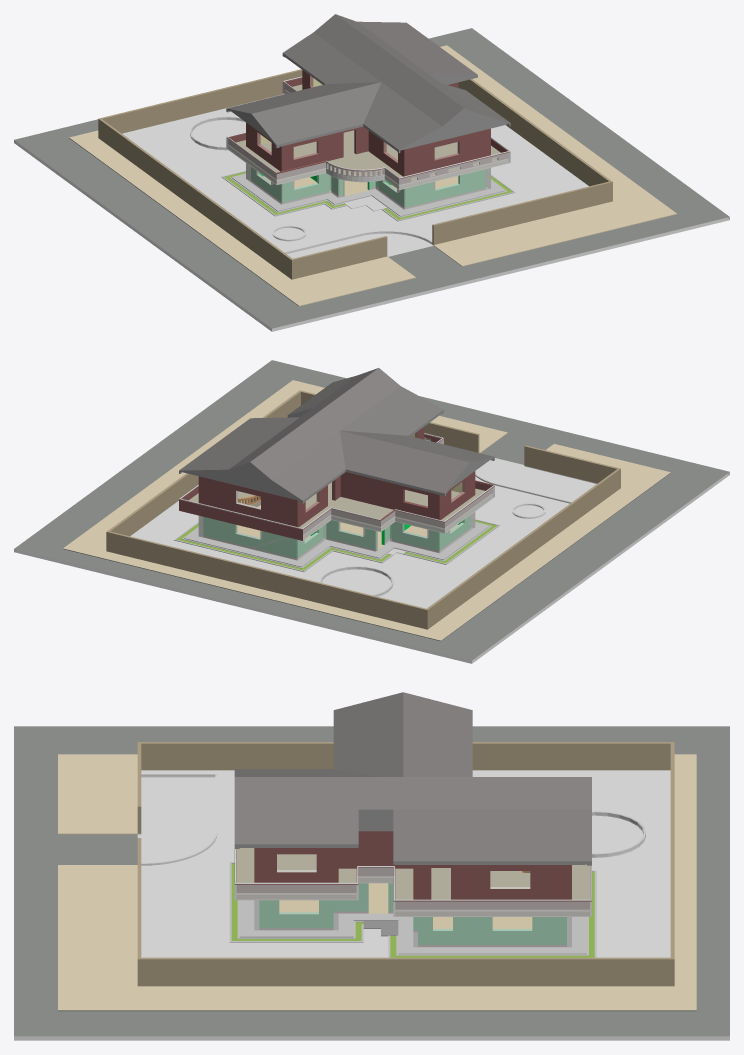
Rendered from house.glb.
3 renders of one model, top to bottom at view 1: azimuth 30°, elevation 25°; view 2: azimuth 150°, elevation 25°; view 3: azimuth 270°, elevation 25°, orthographic. The views are drawn at different scales.
Visible parts, largest first — view 1: Node315, Node313, Node314, Node1686, Node42, Node48, Node1607, Node1664, Node1611, Node44, Node40, Node1610 (+27 smaller); view 2: Node315, Node313, Node314, Node1686, Node1608, Node42, Node47, Node1607, Node44, Node40, Node1705, Node43 (+31 smaller); view 3: Node315, Node314, Node313, Node1686, Node1609, Node46, Node1612, Node40, Node1705, Node47, Node48, Node39 (+28 smaller).
Boxes of the visible parts, x1=… form: Node315: x1=14, y1=28, x2=729, y2=328; Node313: x1=15, y1=109, x2=727, y2=330; Node314: x1=69, y1=45, x2=676, y2=305; Node1686: x1=122, y1=94, x2=588, y2=252; Node42: x1=314, y1=14, x2=463, y2=126; Node48: x1=252, y1=82, x2=381, y2=144; Node1607: x1=98, y1=119, x2=291, y2=279; Node1664: x1=433, y1=182, x2=612, y2=244; Node1611: x1=102, y1=70, x2=302, y2=133; Node44: x1=363, y1=82, x2=441, y2=149; Node40: x1=357, y1=21, x2=477, y2=74; Node1610: x1=458, y1=79, x2=608, y2=186; Node315: x1=14, y1=360, x2=729, y2=660; Node313: x1=16, y1=458, x2=728, y2=662; Node314: x1=63, y1=380, x2=670, y2=640; Node1686: x1=130, y1=476, x2=569, y2=608; Node1608: x1=106, y1=532, x2=427, y2=629; Node42: x1=250, y1=368, x2=399, y2=479; Node47: x1=340, y1=430, x2=469, y2=493; Node1607: x1=427, y1=469, x2=620, y2=629; Node44: x1=340, y1=386, x2=443, y2=435; Node40: x1=179, y1=417, x2=299, y2=470; Node1705: x1=475, y1=458, x2=596, y2=501; Node43: x1=272, y1=430, x2=345, y2=500; Node315: x1=14, y1=726, x2=729, y2=1036; Node314: x1=58, y1=754, x2=696, y2=1010; Node313: x1=14, y1=771, x2=729, y2=1039; Node1686: x1=141, y1=770, x2=670, y2=957; Node1609: x1=137, y1=959, x2=674, y2=986; Node46: x1=234, y1=777, x2=591, y2=809; Node1612: x1=141, y1=743, x2=670, y2=770; Node40: x1=393, y1=809, x2=591, y2=861; Node1705: x1=137, y1=777, x2=215, y2=862; Node47: x1=403, y1=692, x2=472, y2=776; Node48: x1=333, y1=692, x2=403, y2=776; Node39: x1=234, y1=809, x2=358, y2=844.
Size of the model in its own units: 1455 by 301 by 1420.
